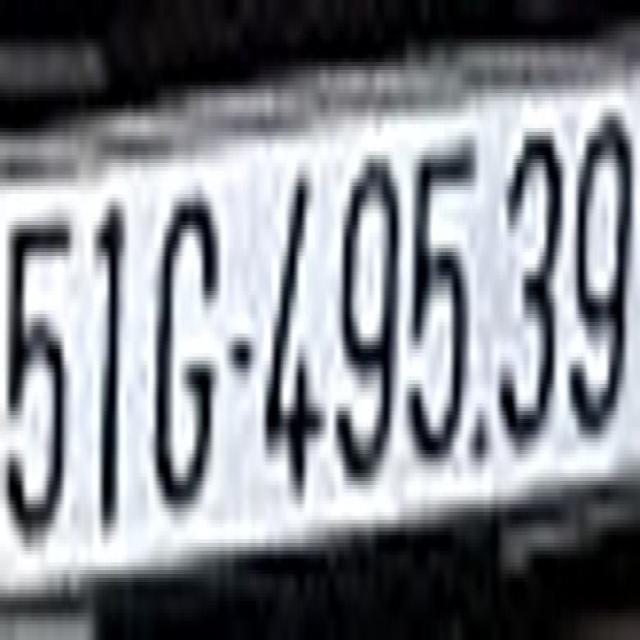1: (90, 190, 124, 535)
3: (498, 140, 560, 446)
4: (268, 174, 315, 500)
5: (5, 217, 73, 535), (414, 132, 463, 442)
9: (568, 109, 626, 438), (341, 163, 393, 473)
G: (157, 194, 217, 493)
